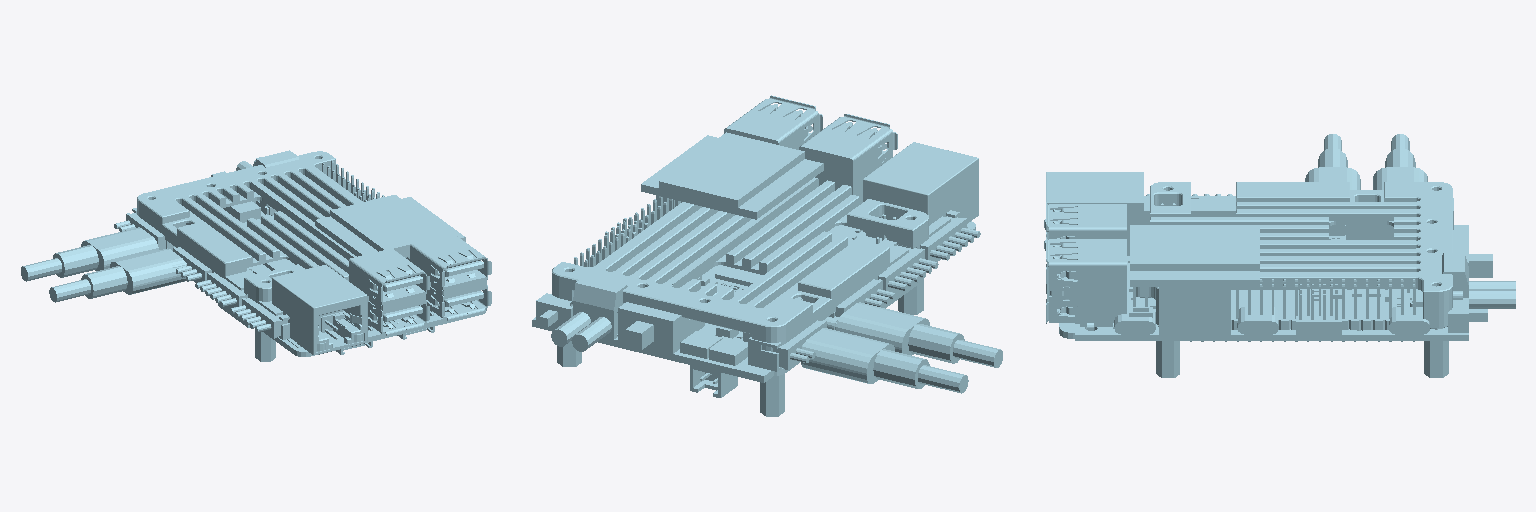
The robot description file, URDF, robot "mini_akm_robot":
<?xml version="1.0" encoding="utf-8"?>
<!-- This URDF was automatically created by SolidWorks to URDF Exporter! Originally created by [author] ([email redacted]) 
     Commit Version: 1.6.0-4-g7f85cfe  Build Version: 1.6.7995.38578
     For more information, please see http://wiki.ros.org/sw_urdf_exporter -->
<robot
  name="mini_akm_robot">
  <link
    name="base_link">
    <inertial>
      <origin
        xyz="-0.0119754973846389 -0.000133372463647142 0.021017784029409"
        rpy="0 0 0" />
      <mass
        value="0.431538267108837" />
      <inertia
        ixx="0.00025452933099881"
        ixy="1.90798049636859E-06"
        ixz="-8.81627294628033E-07"
        iyy="0.00037243817570695"
        iyz="4.03071469874943E-07"
        izz="0.000540327179164314" />
    </inertial>
    <visual>
      <origin
        xyz="0 0 0"
        rpy="0 0 0" />
      <geometry>
        <mesh
          filename="package://wheeltec_robot_urdf/meshes/mini_akm_robot_meshes/base_link.STL" />
      </geometry>
      <material
        name="">
        <color
          rgba="0.741176470588235 0.901960784313726 0.956862745098039 1" />
      </material>
    </visual>
    <collision>
      <origin
        xyz="0 0 0"
        rpy="0 0 0" />
      <geometry>
        <mesh
          filename="package://wheeltec_robot_urdf/meshes/mini_akm_robot_meshes/base_link.STL" />
      </geometry>
    </collision>
  </link>
  <link
    name="lb_link">
    <inertial>
      <origin
        xyz="-1.74588455068014E-07 -0.000208203511794444 3.83077326214509E-08"
        rpy="0 0 0" />
      <mass
        value="0.0456749740999707" />
      <inertia
        ixx="1.81808801892974E-05"
        ixy="-1.7622297358917E-11"
        ixz="3.41287253300913E-12"
        iyy="3.14403863492233E-05"
        iyz="1.33311989069345E-11"
        izz="1.81803662298203E-05" />
    </inertial>
    <visual>
      <origin
        xyz="0 0 0"
        rpy="0 0 0" />
      <geometry>
        <mesh
          filename="package://wheeltec_robot_urdf/meshes/mini_akm_robot_meshes/lb_link.STL" />
      </geometry>
      <material
        name="">
        <color
          rgba="1 1 1 1" />
      </material>
    </visual>
    <collision>
      <origin
        xyz="0 0 0"
        rpy="0 0 0" />
      <geometry>
        <mesh
          filename="package://wheeltec_robot_urdf/meshes/mini_akm_robot_meshes/lb_link.STL" />
      </geometry>
    </collision>
  </link>
  <joint
    name="lb_joint"
    type="continuous">
    <origin
      xyz="-0.069657 0.07975 0.0162"
      rpy="0 0 0" />
    <parent
      link="base_link" />
    <child
      link="lb_link" />
    <axis
      xyz="0 -1 0" />
  </joint>
  <link
    name="rb_link">
    <inertial>
      <origin
        xyz="-1.21641156911045E-07 0.000208202847118158 3.82869461863777E-08"
        rpy="0 0 0" />
      <mass
        value="0.0456749740269158" />
      <inertia
        ixx="1.81808800640407E-05"
        ixy="-1.76128053558607E-11"
        ixz="-3.39346241698698E-12"
        iyy="3.14403861845454E-05"
        iyz="-1.33298144631598E-11"
        izz="1.81803661907041E-05" />
    </inertial>
    <visual>
      <origin
        xyz="0 0 0"
        rpy="0 0 0" />
      <geometry>
        <mesh
          filename="package://wheeltec_robot_urdf/meshes/mini_akm_robot_meshes/rb_link.STL" />
      </geometry>
      <material
        name="">
        <color
          rgba="1 1 1 1" />
      </material>
    </visual>
    <collision>
      <origin
        xyz="0 0 0"
        rpy="0 0 0" />
      <geometry>
        <mesh
          filename="package://wheeltec_robot_urdf/meshes/mini_akm_robot_meshes/rb_link.STL" />
      </geometry>
    </collision>
  </link>
  <joint
    name="rb_joint"
    type="continuous">
    <origin
      xyz="-0.069657 -0.079776 0.0162"
      rpy="0 0 0" />
    <parent
      link="base_link" />
    <child
      link="rb_link" />
    <axis
      xyz="0 -1 0" />
  </joint>
  <link
    name="front_link">
    <inertial>
      <origin
        xyz="2.47652365809037E-07 -2.27629542054232E-09 2.42861286636753E-17"
        rpy="0 0 0" />
      <mass
        value="0.115265613771811" />
      <inertia
        ixx="0.000198380666923192"
        ixy="-2.44845696267185E-12"
        ixz="-4.08963450598172E-21"
        iyy="2.73732443212511E-05"
        iyz="-3.60301679893399E-20"
        izz="0.000218069536992989" />
    </inertial>
    <visual>
      <origin
        xyz="0 0 0"
        rpy="0 0 0" />
      <geometry>
        <mesh
          filename="package://wheeltec_robot_urdf/meshes/mini_akm_robot_meshes/front_link.STL" />
      </geometry>
      <material
        name="">
        <color
          rgba="0.349019607843137 0.349019607843137 0.349019607843137 1" />
      </material>
    </visual>
    <collision>
      <origin
        xyz="0 0 0"
        rpy="0 0 0" />
      <geometry>
        <mesh
          filename="package://wheeltec_robot_urdf/meshes/mini_akm_robot_meshes/front_link.STL" />
      </geometry>
    </collision>
  </link>
  <joint
    name="front_joint"
    type="fixed">
    <origin
      xyz="0.14383 -1.2575E-05 0.01"
      rpy="0 0 0" />
    <parent
      link="base_link" />
    <child
      link="front_link" />
    <axis
      xyz="0 0 0" />
  </joint>
  <link
    name="controller_link">
    <inertial>
      <origin
        xyz="-0.0513531699176342 0.0474963429876354 0.0444073306956666"
        rpy="0 0 0" />
      <mass
        value="0.0335306890026228" />
      <inertia
        ixx="1.91764077163967E-05"
        ixy="9.52727501026462E-07"
        ixz="-5.84384705102991E-08"
        iyy="2.19811763093923E-05"
        iyz="3.14216738930502E-07"
        izz="4.00893380787535E-05" />
    </inertial>
    <visual>
      <origin
        xyz="0 0 0"
        rpy="0 0 0" />
      <geometry>
        <mesh
          filename="package://wheeltec_robot_urdf/meshes/mini_akm_robot_meshes/controller_link.STL" />
      </geometry>
      <material
        name="">
        <color
          rgba="0.741176470588235 0.901960784313726 0.956862745098039 1" />
      </material>
    </visual>
    <collision>
      <origin
        xyz="0 0 0"
        rpy="0 0 0" />
      <geometry>
        <mesh
          filename="package://wheeltec_robot_urdf/meshes/mini_akm_robot_meshes/controller_link.STL" />
      </geometry>
    </collision>
  </link>
  <joint
    name="controller_joint"
    type="fixed">
    <origin
      xyz="-0.00035718 -0.04684 0.0515"
      rpy="0 0 0" />
    <parent
      link="base_link" />
    <child
      link="controller_link" />
    <axis
      xyz="0 0 0" />
  </joint>
  <link
    name="laser_link">
    <inertial>
      <origin
        xyz="0.00196458631092469 -3.57895453832374E-06 -0.000201831632616292"
        rpy="0 0 0" />
      <mass
        value="0.0477519163756088" />
      <inertia
        ixx="3.38461999756745E-05"
        ixy="-2.19897168323003E-09"
        ixz="1.07118468678157E-06"
        iyy="3.94150415873187E-05"
        iyz="6.83978024968062E-10"
        izz="5.60787042126573E-05" />
    </inertial>
    <visual>
      <origin
        xyz="0 0 0"
        rpy="0 0 0" />
      <geometry>
        <mesh
          filename="package://wheeltec_robot_urdf/meshes/mini_akm_robot_meshes/laser.STL" />
      </geometry>
      <material
        name="">
        <color
          rgba="0.376470588235294 0.376470588235294 0.376470588235294 1" />
      </material>
    </visual>
    <collision>
      <origin
        xyz="0 0 0"
        rpy="0 0 0" />
      <geometry>
        <mesh
          filename="package://wheeltec_robot_urdf/meshes/mini_akm_robot_meshes/laser.STL" />
      </geometry>
    </collision>
  </link>
  <joint
    name="laser_joint"
    type="fixed">
    <origin
      xyz="0.11 -1.2576E-05 0.094524"
      rpy="0 0 3.1416" />
    <parent
      link="base_link" />
    <child
      link="laser_link" />
    <axis
      xyz="0 0 0" />
  </joint>
 
  <link
    name="left_link">
    <inertial>
      <origin
        xyz="-0.00429085747483857 0.0111736945302178 -0.0110145847149603"
        rpy="0 0 0" />
      <mass
        value="0.00476959924663217" />
      <inertia
        ixx="2.06909949437508E-07"
        ixy="-1.04973296356064E-07"
        ixz="-1.49927893294707E-09"
        iyy="3.93341439527907E-07"
        iyz="-5.98007533541798E-10"
        izz="4.63369851558769E-07" />
    </inertial>
    <visual>
      <origin
        xyz="0 0 0"
        rpy="0 0 0" />
      <geometry>
        <mesh
          filename="package://wheeltec_robot_urdf/meshes/mini_akm_robot_meshes/left_link.STL" />
      </geometry>
      <material
        name="">
        <color
          rgba="0.741176470588235 0.901960784313726 0.956862745098039 1" />
      </material>
    </visual>
    <collision>
      <origin
        xyz="0 0 0"
        rpy="0 0 0" />
      <geometry>
        <mesh
          filename="package://wheeltec_robot_urdf/meshes/mini_akm_robot_meshes/left_link.STL" />
      </geometry>
    </collision>
  </link>
  <joint
    name="left_joint"
    type="revolute">
    <origin
      xyz="0.073593 0.051987 0.022"
      rpy="0 0 0" />
    <parent
      link="base_link" />
    <child
      link="left_link" />
    <axis
      xyz="0 0 -1" />
    <limit
      lower="-0.39"
      upper="0.39"
      effort="0"
      velocity="0" />
  </joint>
  <link
    name="lf_link">
    <inertial>
      <origin
        xyz="-1.41585548674161E-07 1.91747322367264E-07 -4.64079716027549E-08"
        rpy="0 0 0" />
      <mass
        value="0.0441313542614254" />
      <inertia
        ixx="1.8122375254286E-05"
        ixy="1.01605691640891E-11"
        ixz="3.10311319459123E-12"
        iyy="3.14074902671165E-05"
        iyz="-3.35423251171137E-13"
        izz="1.81223732297953E-05" />
    </inertial>
    <visual>
      <origin
        xyz="0 0 0"
        rpy="0 0 0" />
      <geometry>
        <mesh
          filename="package://wheeltec_robot_urdf/meshes/mini_akm_robot_meshes/lf_link.STL" />
      </geometry>
      <material
        name="">
        <color
          rgba="1 1 1 1" />
      </material>
    </visual>
    <collision>
      <origin
        xyz="0 0 0"
        rpy="0 0 0" />
      <geometry>
        <mesh
          filename="package://wheeltec_robot_urdf/meshes/mini_akm_robot_meshes/lf_link.STL" />
      </geometry>
    </collision>
  </link>
  <joint
    name="lf_point"
    type="continuous">
    <origin
      xyz="0 0.0301260014087184 -0.0109999999999987"
      rpy="0 0 0" />
    <parent
      link="left_link" />
    <child
      link="lf_link" />
    <axis
      xyz="0 -1 0" />
  </joint>
  <link
    name="right_link">
    <inertial>
      <origin
        xyz="-0.00429085795403265 -0.0111736943537972 -0.0109854152864204"
        rpy="0 0 0" />
      <mass
        value="0.00476959923857933" />
      <inertia
        ixx="2.06909958805082E-07"
        ixy="1.0497330410809E-07"
        ixz="1.4992787833529E-09"
        iyy="3.9334142732894E-07"
        iyz="-5.98007566775091E-10"
        izz="4.63369848741371E-07" />
    </inertial>
    <visual>
      <origin
        xyz="0 0 0"
        rpy="0 0 0" />
      <geometry>
        <mesh
          filename="package://wheeltec_robot_urdf/meshes/mini_akm_robot_meshes/right_link.STL" />
      </geometry>
      <material
        name="">
        <color
          rgba="0.741176470588235 0.901960784313726 0.956862745098039 1" />
      </material>
    </visual>
    <collision>
      <origin
        xyz="0 0 0"
        rpy="0 0 0" />
      <geometry>
        <mesh
          filename="package://wheeltec_robot_urdf/meshes/mini_akm_robot_meshes/right_link.STL" />
      </geometry>
    </collision>
  </link>
  <joint
    name="right_joint"
    type="revolute">
    <origin
      xyz="0.0735933420063898 -0.0520125752742397 0.0219999999999997"
      rpy="0 0 0" />
    <parent
      link="base_link" />
    <child
      link="right_link" />
    <axis
      xyz="0 0 1" />
    <limit
      lower="-0.39"
      upper="0.39"
      effort="0"
      velocity="0" />
  </joint>
  <link
    name="rf_link">
    <inertial>
      <origin
        xyz="-1.82018104019632E-07 -1.9296458401985E-07 -3.39361436400148E-08"
        rpy="0 0 0" />
      <mass
        value="0.0441313541199343" />
      <inertia
        ixx="1.81223720754189E-05"
        ixy="8.14282826550161E-12"
        ixz="-2.30932816847721E-12"
        iyy="3.14074908686231E-05"
        iyz="-6.6892241788197E-12"
        izz="1.81223769687268E-05" />
    </inertial>
    <visual>
      <origin
        xyz="0 0 0"
        rpy="0 0 0" />
      <geometry>
        <mesh
          filename="package://wheeltec_robot_urdf/meshes/mini_akm_robot_meshes/rf_link.STL" />
      </geometry>
      <material
        name="">
        <color
          rgba="1 1 1 1" />
      </material>
    </visual>
    <collision>
      <origin
        xyz="0 0 0"
        rpy="0 0 0" />
      <geometry>
        <mesh
          filename="package://wheeltec_robot_urdf/meshes/mini_akm_robot_meshes/rf_link.STL" />
      </geometry>
    </collision>
  </link>
  <joint
    name="rf_joint"
    type="continuous">
    <origin
      xyz="0 -0.0301260001523718 -0.0109999999999997"
      rpy="0 0 0" />
    <parent
      link="right_link" />
    <child
      link="rf_link" />
    <axis
      xyz="0 -1 0" />
  </joint>
</robot>

--- Facts derived from the render (not from the file) ---
Views: 3 orthographic renders of the robot side by side, from view 1: azimuth 30°, elevation 25°; view 2: azimuth 150°, elevation 25°; view 3: azimuth 270°, elevation 25°.
Model mini_akm_robot with 10 links and 9 joints (2 revolute, 4 continuous, 3 fixed), rooted at base_link, posed all joints at 0.
Links seen in each view (by area): view 1: controller_link; view 2: controller_link; view 3: controller_link.
Boxes of the visible links, left/top/right/bottom form: controller_link: left=21, top=150, right=491, bottom=361; controller_link: left=532, top=95, right=1002, bottom=416; controller_link: left=1044, top=134, right=1515, bottom=377.
Bounding box of the posed robot: 0.0957 × 0.1018 × 0.0276 m (x, y, z).
Meshes: 10 distinct files referenced, 1 mesh visuals loaded (1 binary STL); not drawn: 9 (reference not matched to a file when rendering).